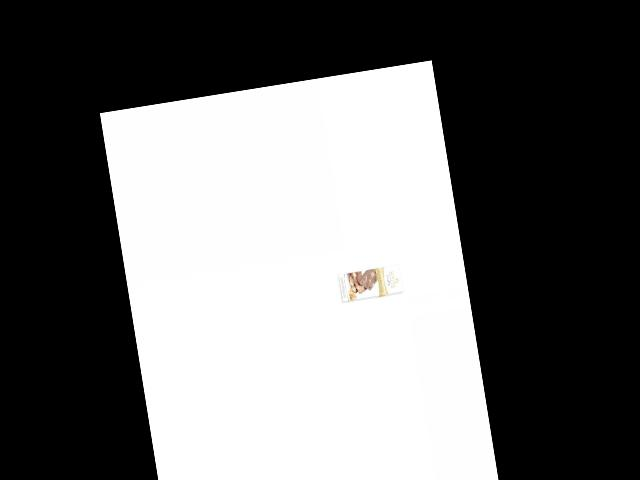chocolate: (337, 257, 408, 308)
